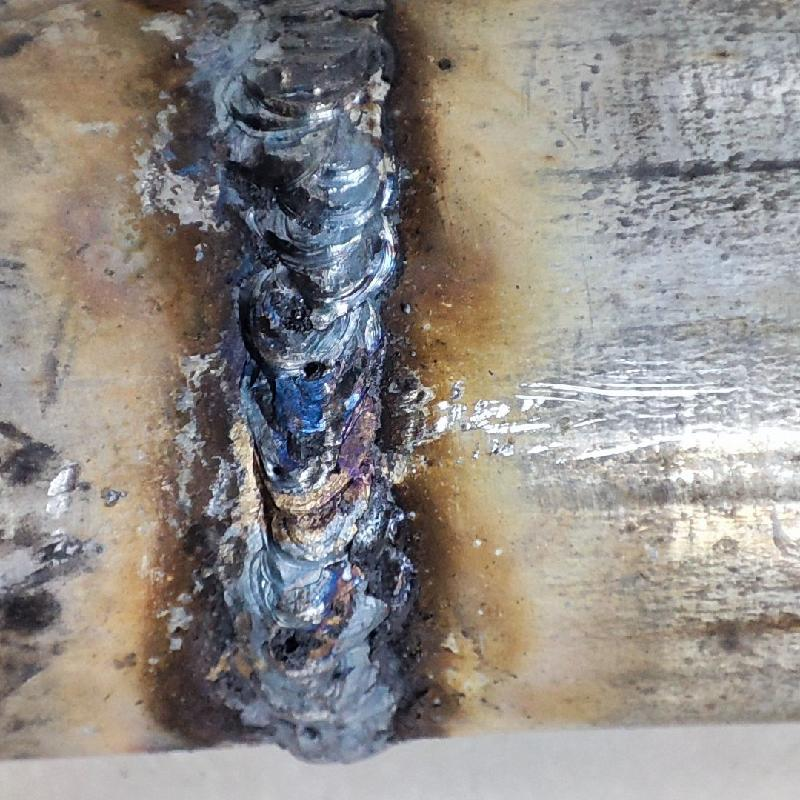Surface_pores: (267, 620, 330, 680), (287, 348, 341, 393), (253, 441, 293, 489)
